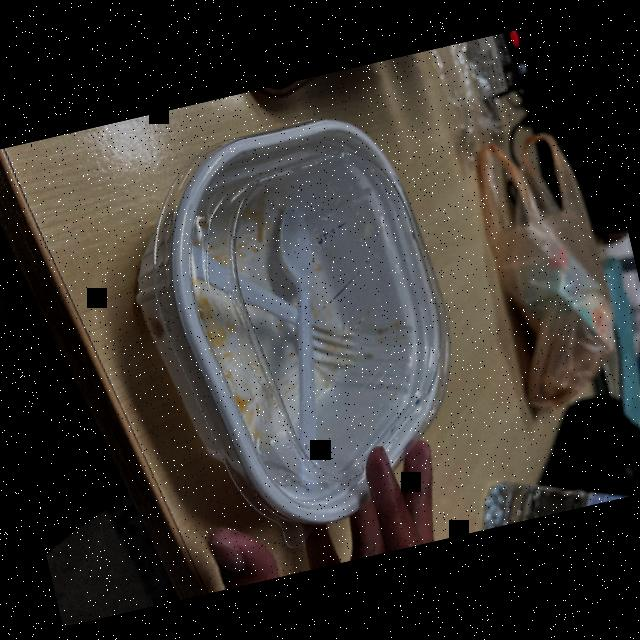plastic_box: (111, 95, 490, 556)
